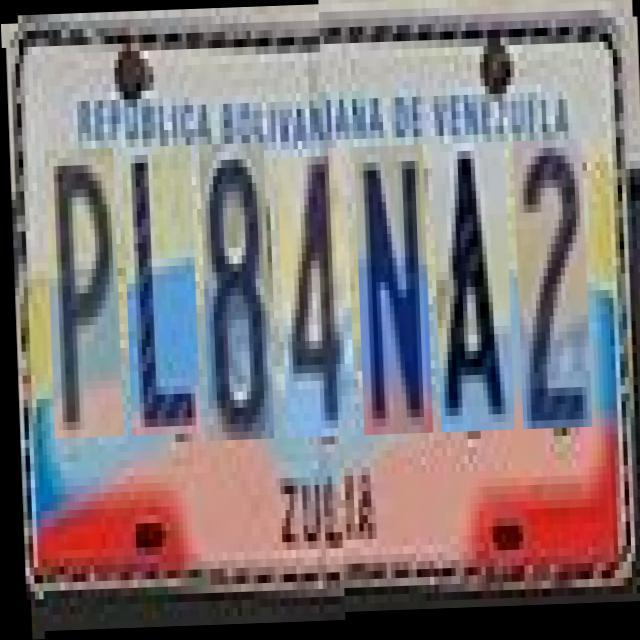2: (512, 144, 588, 434)
4: (275, 150, 352, 432)
8: (198, 136, 270, 434)
A: (430, 146, 511, 436)
L: (120, 138, 198, 428)
N: (353, 148, 430, 438)
P: (43, 141, 120, 431)
